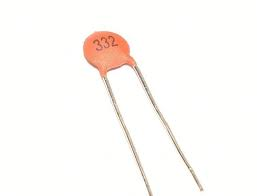ceramic capacitor: (75, 27, 161, 113)
